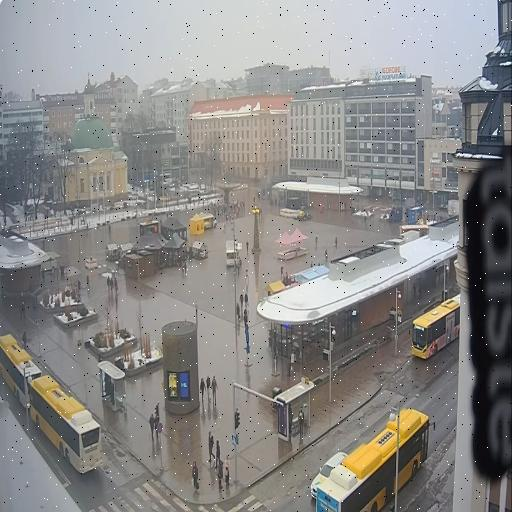Bus: (316, 408, 430, 511), (29, 376, 102, 473), (412, 295, 460, 359), (0, 334, 41, 408)
